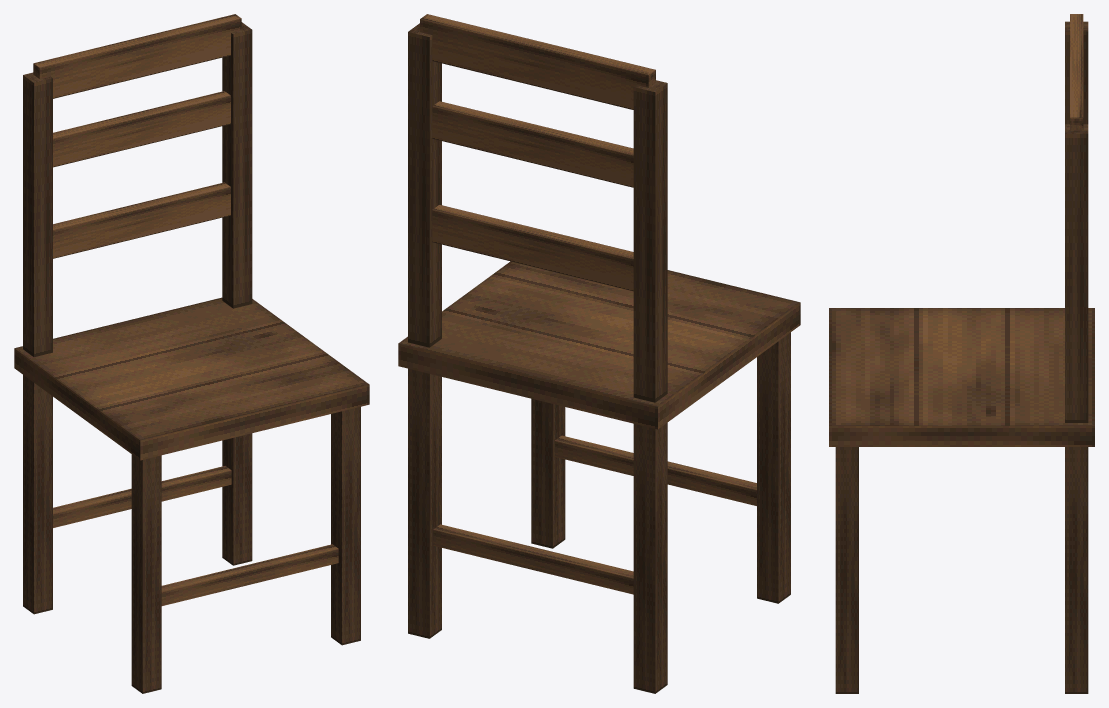
The model's file is chair_wooden.glb.
3 views of the same model, side by side, from view 1: azimuth 30°, elevation 25°; view 2: azimuth 150°, elevation 25°; view 3: azimuth 270°, elevation 25° (orthographic). The views are drawn at different scales.
Visible parts, largest first — view 1: chair_wooden; view 2: chair_wooden; view 3: chair_wooden.
Part boxes in pixels (x1,y1,x2,y2): chair_wooden: (14, 14, 369, 693); chair_wooden: (398, 14, 800, 693); chair_wooden: (829, 14, 1094, 693).
Size of the model in its own units: 0.42 by 0.95 by 0.4.
1 material, 1 textured.
